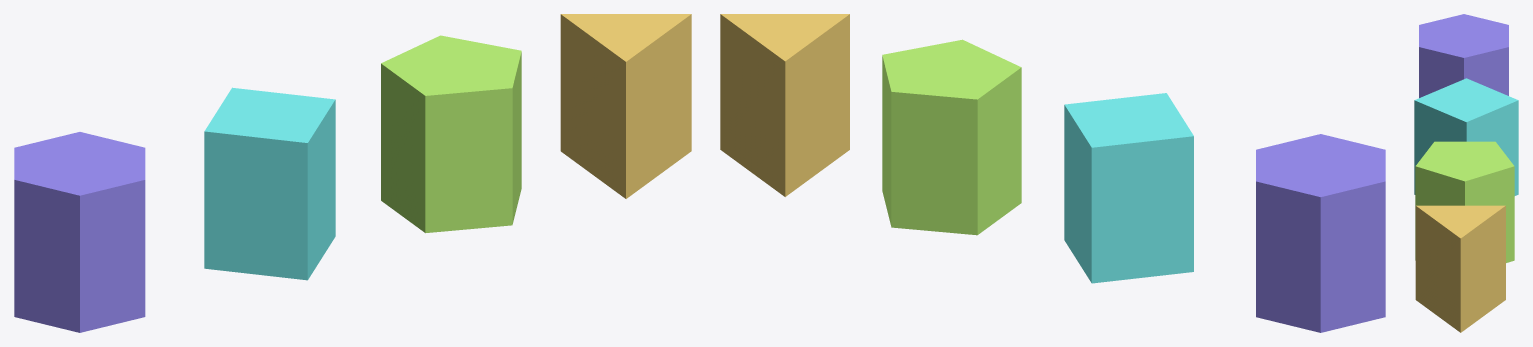
Rendered from prismsglb.glb.
3 renders of one model, left to right at view 1: azimuth 30°, elevation 25°; view 2: azimuth 150°, elevation 25°; view 3: azimuth 270°, elevation 25°, orthographic. The views are drawn at different scales.
Parts seen in each view (by area): view 1: pCylinder1, pCylinder4, pCylinder3, pCylinder2; view 2: pCylinder1, pCylinder4, pCylinder3, pCylinder2; view 3: pCylinder2, pCylinder1, pCylinder3, pCylinder4.
Boxes of the visible parts, bbox=[...] form: pCylinder1: bbox=[381, 35, 521, 233]; pCylinder4: bbox=[14, 132, 145, 332]; pCylinder3: bbox=[204, 87, 335, 280]; pCylinder2: bbox=[560, 14, 691, 198]; pCylinder1: bbox=[882, 39, 1021, 235]; pCylinder4: bbox=[1256, 134, 1385, 332]; pCylinder3: bbox=[1064, 93, 1193, 283]; pCylinder2: bbox=[720, 14, 849, 196]; pCylinder2: bbox=[1415, 205, 1505, 332]; pCylinder1: bbox=[1415, 141, 1514, 262]; pCylinder3: bbox=[1414, 78, 1518, 195]; pCylinder4: bbox=[1419, 14, 1508, 97].
Size of the model in its own units: 10.29 by 2.07 by 2.
